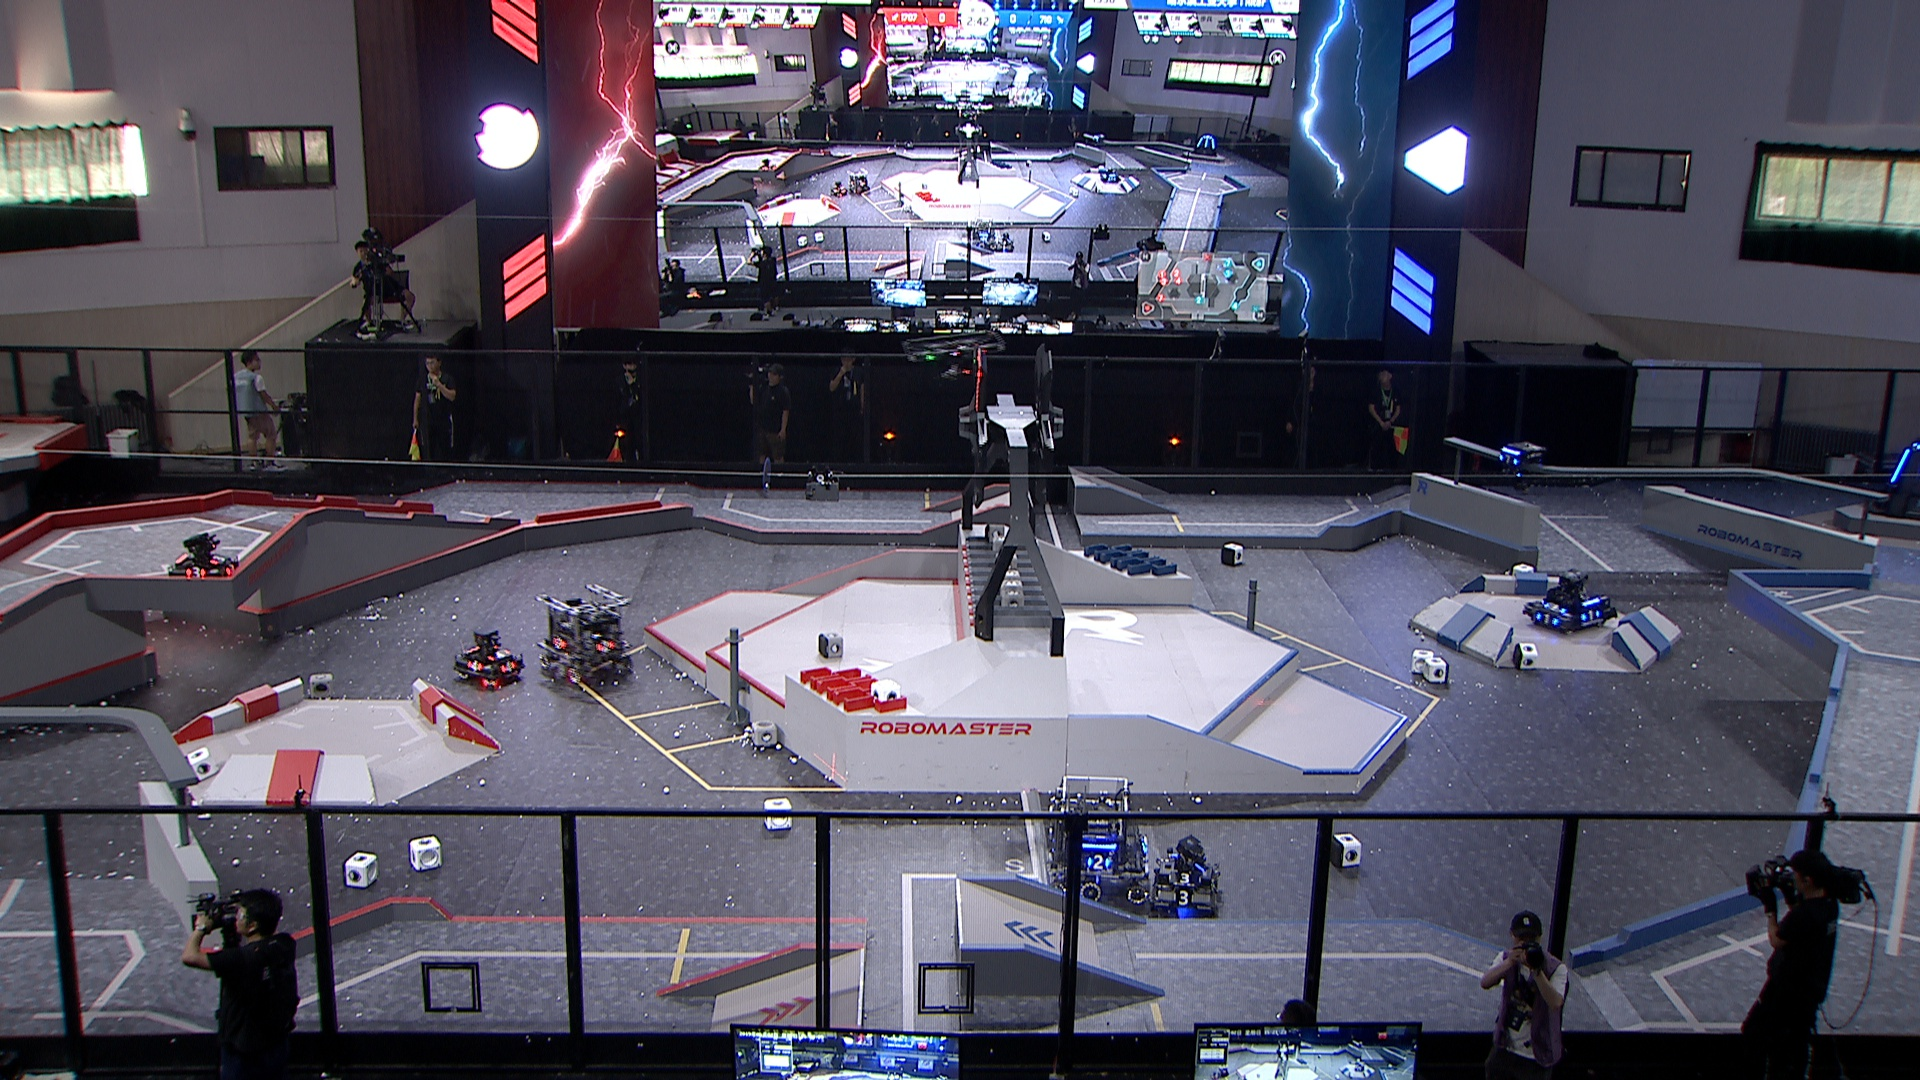armor: (1888, 448, 1912, 485), (1168, 872, 1204, 887), (1171, 889, 1197, 907), (1087, 853, 1112, 872), (1536, 611, 1563, 626), (1542, 600, 1569, 615), (593, 640, 618, 655), (484, 650, 513, 662), (1578, 608, 1602, 622), (1498, 454, 1519, 469), (183, 566, 208, 579), (207, 553, 229, 566), (498, 661, 518, 675), (467, 659, 485, 674), (553, 636, 568, 651), (224, 560, 240, 575)
base: (1865, 439, 1920, 524)
car: (1046, 777, 1155, 907), (535, 579, 636, 692), (1522, 564, 1617, 636), (1150, 833, 1218, 916), (454, 622, 526, 692), (167, 529, 243, 585)
ignore: (971, 220, 996, 255), (1191, 133, 1218, 157), (847, 167, 870, 194), (992, 233, 1015, 255), (1101, 167, 1121, 185), (760, 156, 779, 171), (829, 179, 847, 196), (1092, 131, 1106, 149)
watcher: (1495, 439, 1545, 491)
